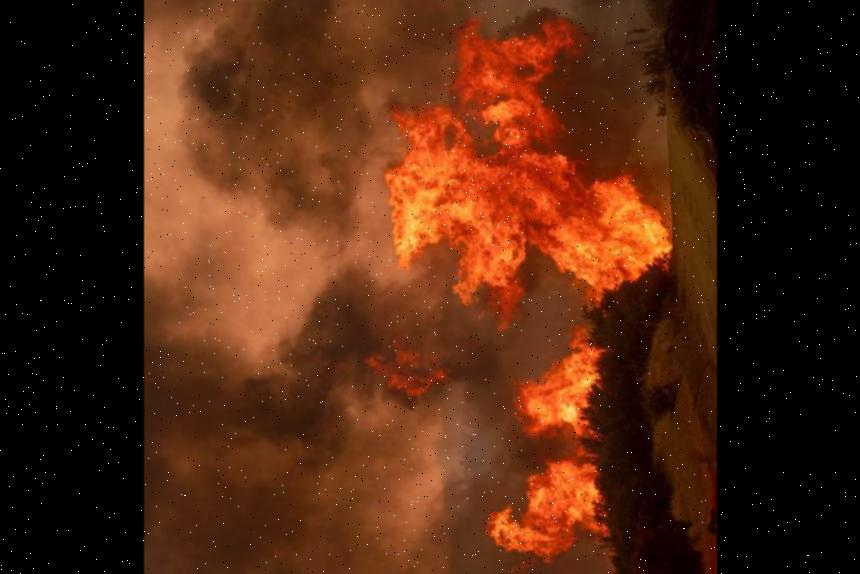fire: (316, 0, 669, 574)
